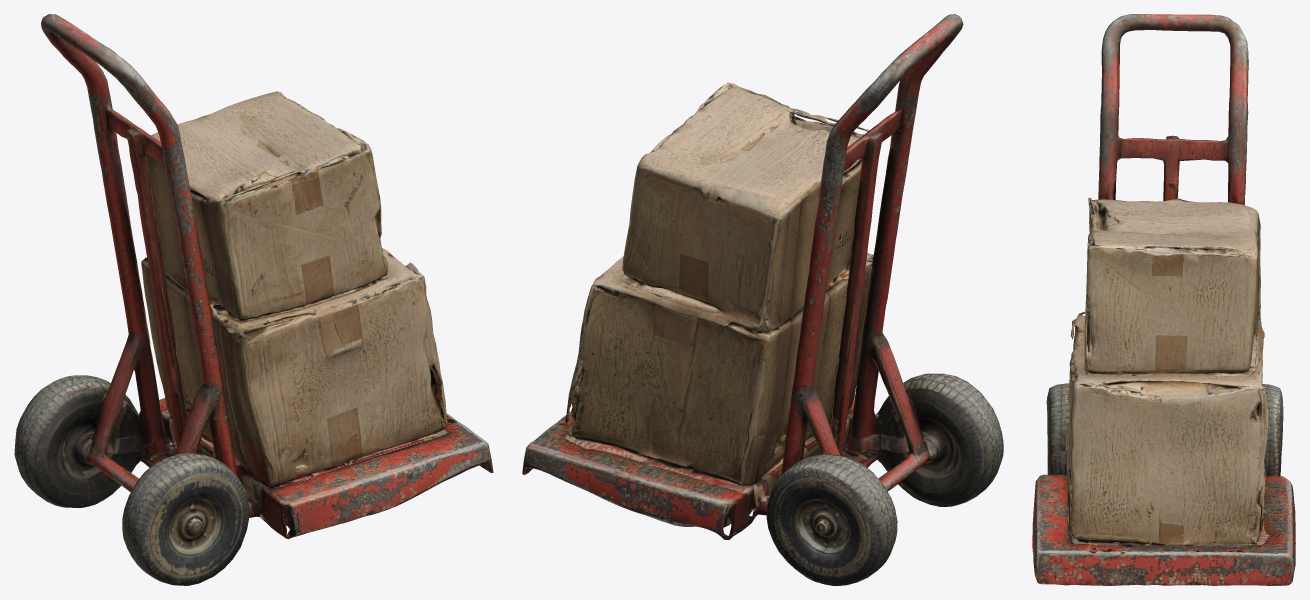
Rendered from HandCart.glb.
3 views of the same model, side by side, from view 1: azimuth 30°, elevation 25°; view 2: azimuth 150°, elevation 25°; view 3: azimuth 270°, elevation 25° (orthographic). The views are drawn at different scales.
Visible parts, largest first — view 1: texture_mapping; view 2: texture_mapping; view 3: texture_mapping.
Boxes of the visible parts, bbox=[...] form: texture_mapping: bbox=[14, 14, 493, 585]; texture_mapping: bbox=[522, 14, 1003, 585]; texture_mapping: bbox=[1032, 14, 1295, 585].
Size of the model in its own units: 0.7094 by 1 by 0.5147.
1 material, 1 textured.
